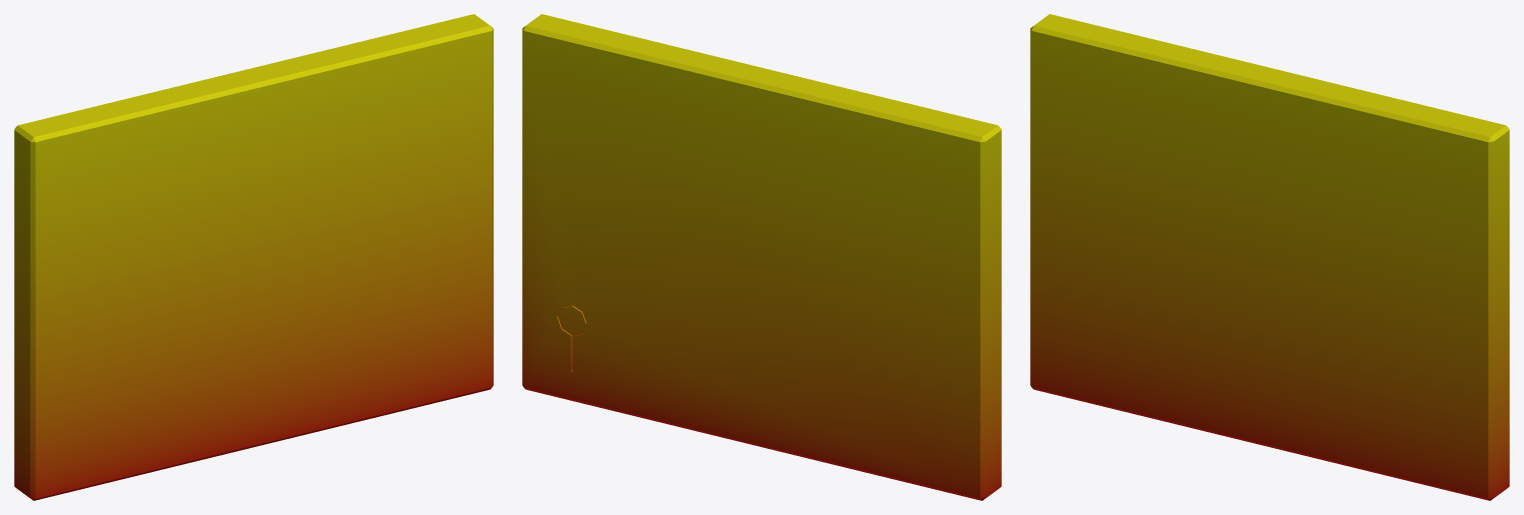
Rendered from mural_panel.glb.
3 renders of one model, left to right at view 1: azimuth 30°, elevation 25°; view 2: azimuth 150°, elevation 25°; view 3: azimuth 330°, elevation 25°, orthographic.
Parts seen in each view (by area): view 1: mural_panel; view 2: mural_panel; view 3: mural_panel.
Part boxes in pixels (x1,y1,x2,y2): mural_panel: (14,14,493,500); mural_panel: (522,14,1001,500); mural_panel: (1030,14,1509,500).
Size of what is drawn, in the model's own units: 4 by 3 by 0.3.
